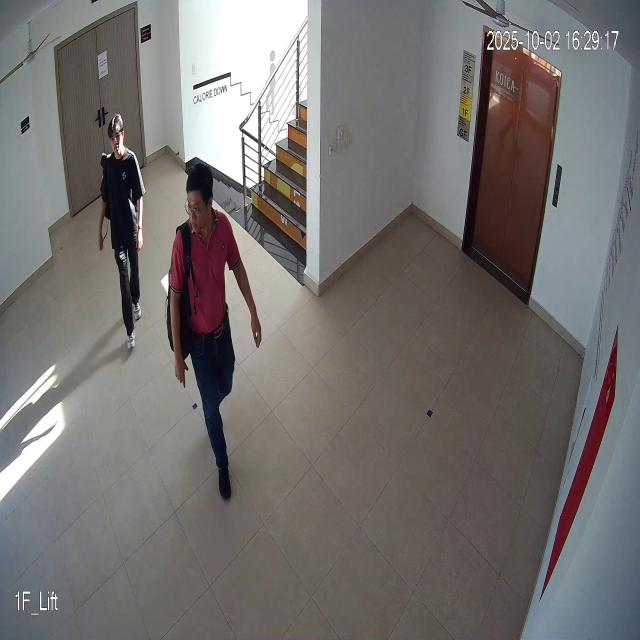face: (182, 158, 216, 242)
